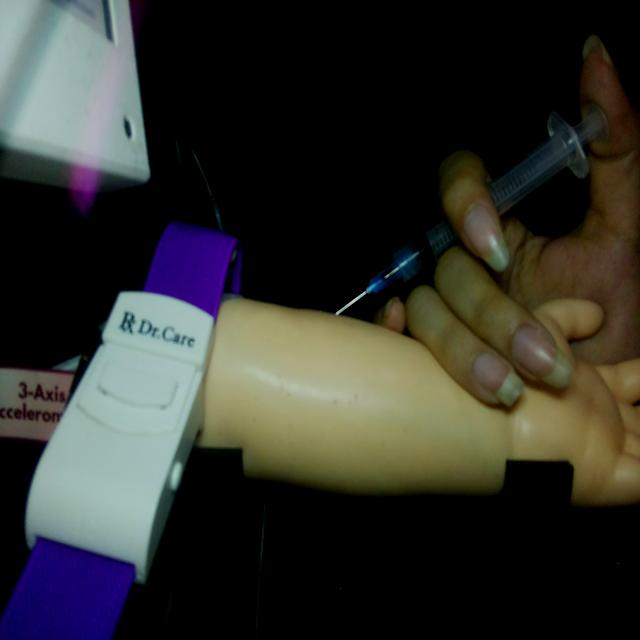22 degrees: (333, 100, 610, 318)
